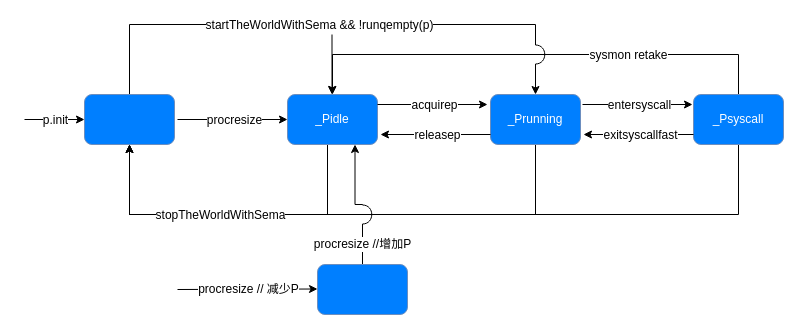
Image size: 801x332. Some labels were removed from this diagram. Each missing label, with the centre of its shape:
"_Pdead" belongs at [362,289].
"_Pgcstop" belongs at [129,119].
